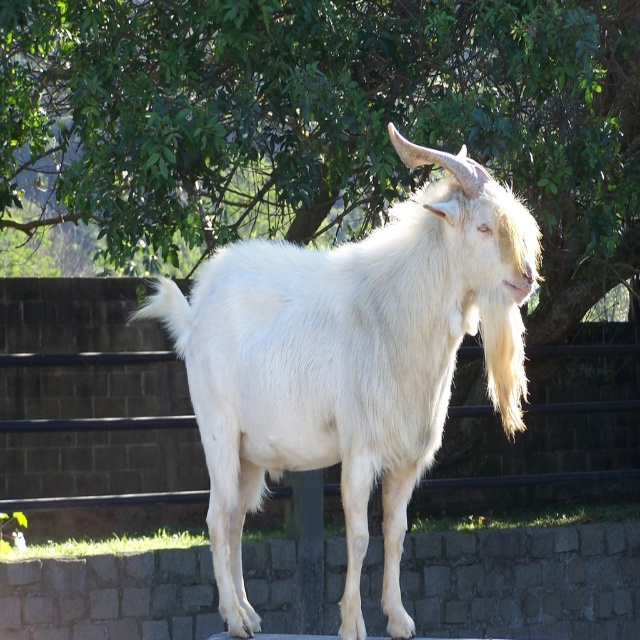Cattle: (129, 121, 544, 639)
